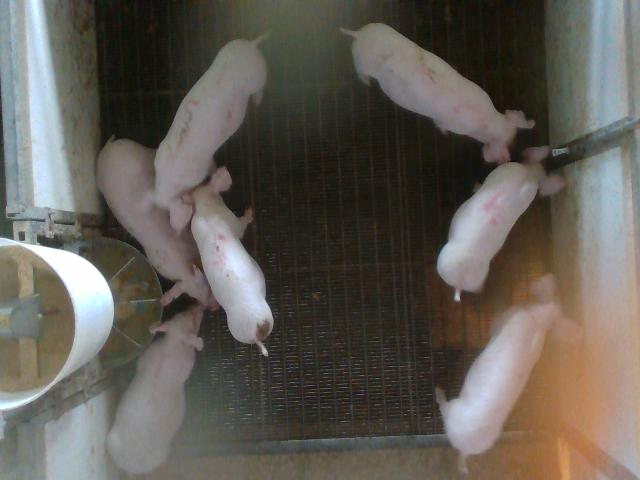pig-3: (144, 35, 266, 234)
pig-4: (438, 146, 566, 301)
pig-5: (191, 168, 274, 356)
